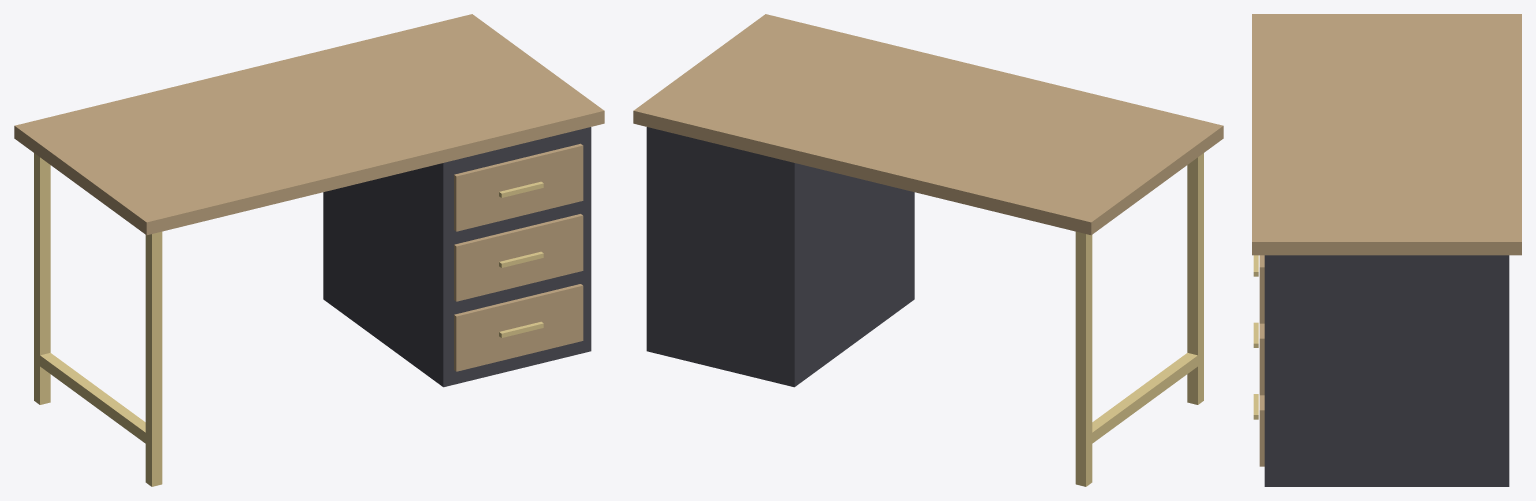
The model's file is bb_set_desk.fbx.
3 renders of one model, left to right at view 1: azimuth 30°, elevation 25°; view 2: azimuth 150°, elevation 25°; view 3: azimuth 270°, elevation 25°, orthographic. The views are drawn at different scales.
Parts seen in each view (by area): view 1: bb_set_desk; view 2: bb_set_desk; view 3: bb_set_desk.
Boxes of the visible parts, x1,y1,x2,y2 form: bb_set_desk: (14,14,604,486); bb_set_desk: (633,14,1223,486); bb_set_desk: (1252,14,1521,486).
Size of the model in its own units: 1.3 by 0.74 by 0.65.
